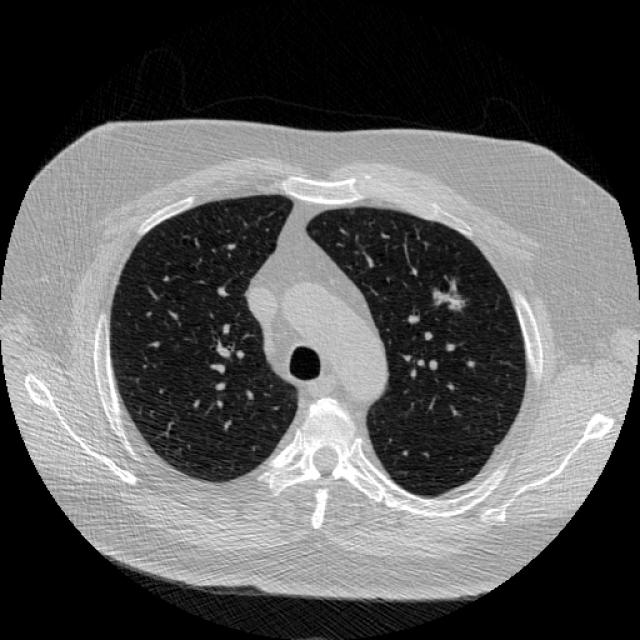nodule: (422, 272, 478, 326)
